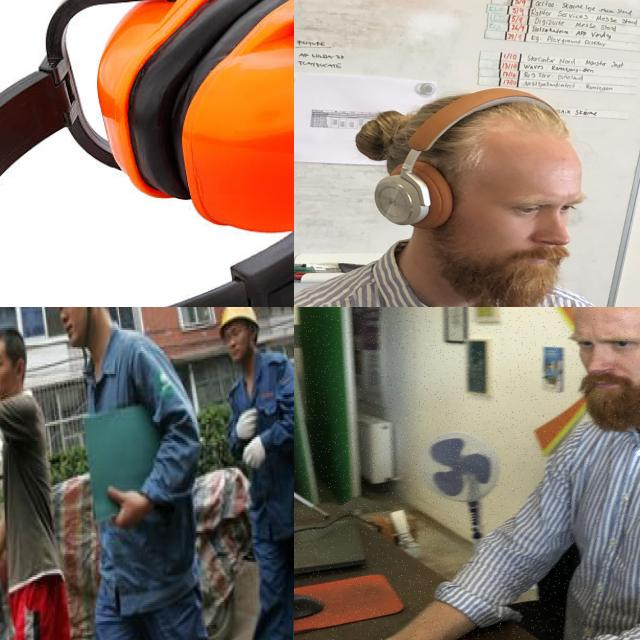Ear-protection: (0, 0, 294, 307), (373, 86, 594, 307), (551, 307, 640, 434)
No_Ear-Protection: (16, 359, 24, 380)
No_Glasses: (485, 186, 582, 226), (0, 355, 6, 369)
face_nomask: (0, 372, 19, 399)
hand_glove: (235, 408, 266, 468)
head_helmet: (223, 307, 259, 334)
head_nohelmet: (0, 327, 26, 365)
